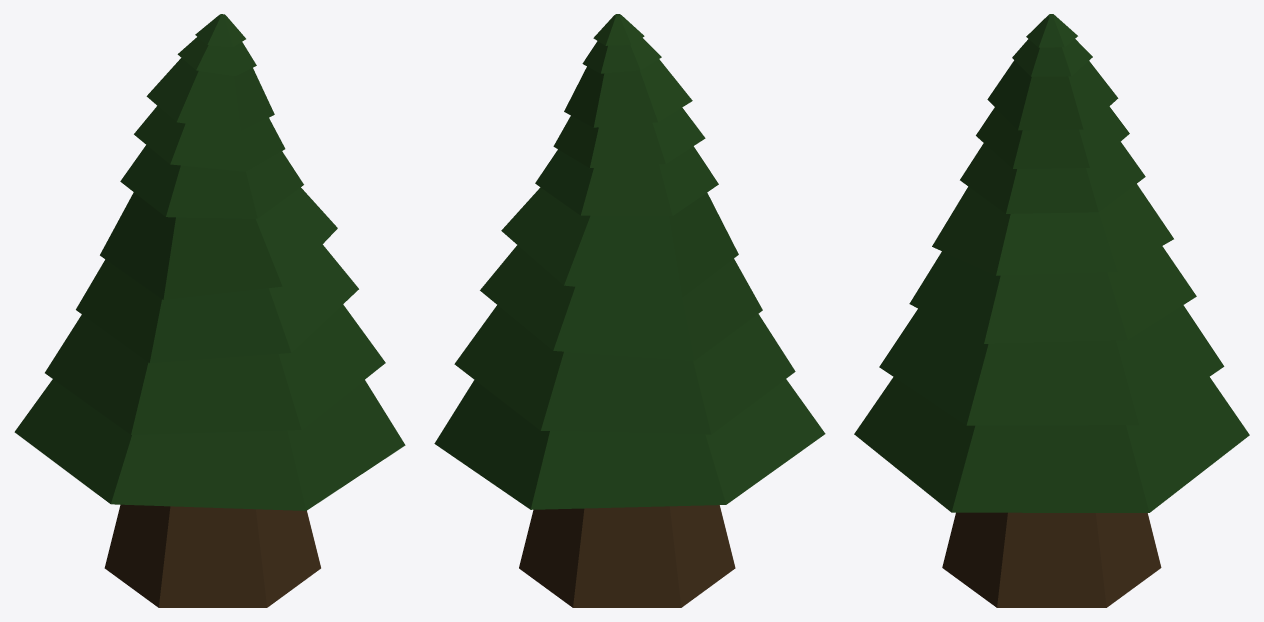
Rendered from Pine_Tree.fbx.
The picture shows the model from 3 angles, left to right: view 1: azimuth 30°, elevation 25°; view 2: azimuth 150°, elevation 25°; view 3: azimuth 270°, elevation 25°; orthographic projection.
Visible parts, largest first — view 1: Cylinder.002; view 2: Cylinder.002; view 3: Cylinder.002.
Boxes of the visible parts, x1,y1,x2,y2 form: Cylinder.002: (14,14,405,607); Cylinder.002: (434,14,825,607); Cylinder.002: (854,14,1249,607).
Size of the model in its own units: 196 by 350 by 225.
